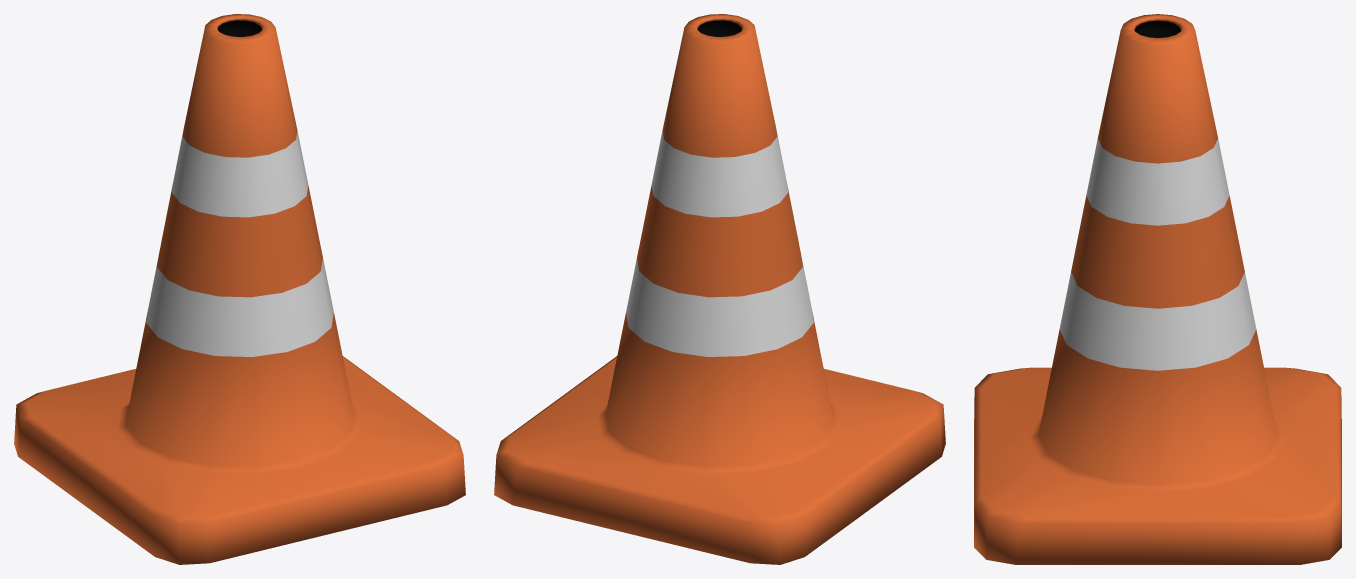
The model's file is TrafficCone.fbx.
3 renders of one model, left to right at view 1: azimuth 30°, elevation 25°; view 2: azimuth 150°, elevation 25°; view 3: azimuth 270°, elevation 25°, orthographic. The views are drawn at different scales.
Parts seen in each view (by area): view 1: Cone_Geo; view 2: Cone_Geo; view 3: Cone_Geo.
Boxes of the visible parts, left/top/right/bottom form: Cone_Geo: left=14, top=14, right=465, bottom=564; Cone_Geo: left=494, top=14, right=945, bottom=564; Cone_Geo: left=974, top=14, right=1341, bottom=564.
Size of the model in its own units: 264 by 365 by 264.
